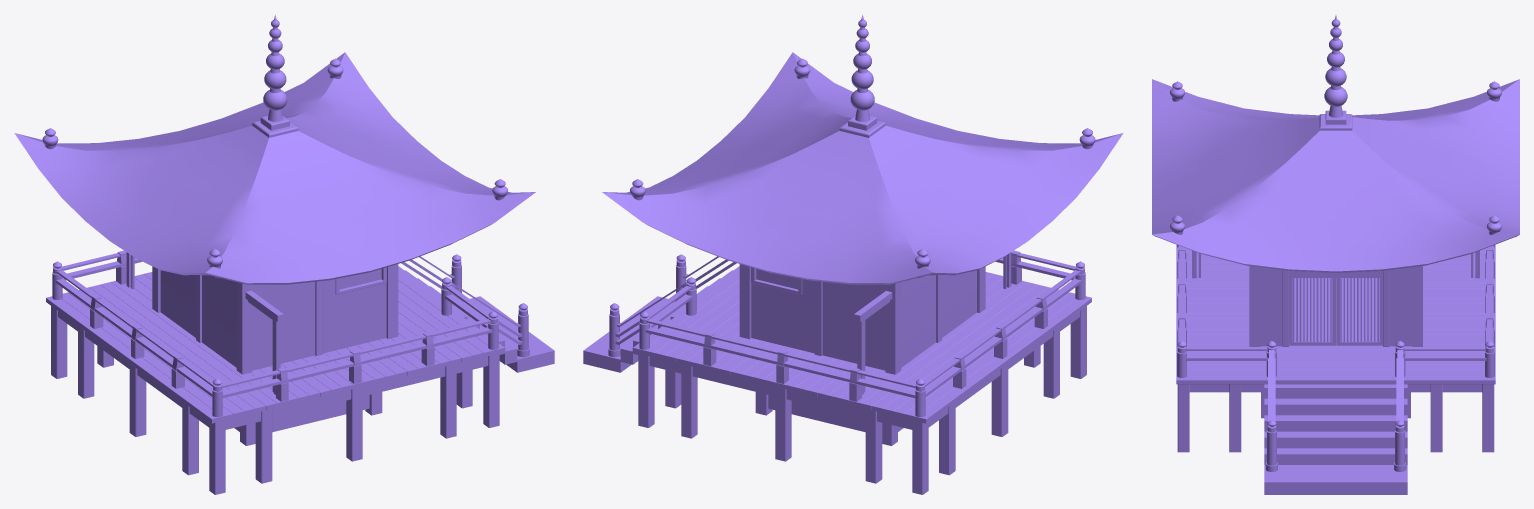
Rendered from temple.fbx.
3 renders of one model, left to right at view 1: azimuth 30°, elevation 25°; view 2: azimuth 150°, elevation 25°; view 3: azimuth 270°, elevation 25°, orthographic. The views are drawn at different scales.
Parts seen in each view (by area): view 1: toit, plancher, polySurface3, pilotis1, rebord_barriere, support_plancher, colonne_barriere, colonne_barriere_deco, escalier, deco_toit, poutre_2, porche (+7 smaller); view 2: toit, plancher, polySurface3, pilotis1, rebord_barriere, support_plancher, colonne_barriere, colonne_barriere_deco, escalier, deco_toit, poutre_3, porche (+7 smaller); view 3: toit, plancher, escalier, rebord_barriere, tapis, polySurface3, pilotis1, porte_gauche, porte_droite, colonne_barriere_deco, deco_toit, support_plancher (+7 smaller).
Part boxes in pixels (x1,y1,x2,y2): toit: (14,52,535,284); plancher: (46,270,505,423); polySurface3: (160,270,386,370); pilotis1: (51,306,499,494); rebord_barriere: (55,253,522,398); support_plancher: (58,311,488,429); colonne_barriere: (90,250,434,401); colonne_barriere_deco: (52,254,529,416); escalier: (398,266,554,372); deco_toit: (263,14,287,121); poutre_2: (236,282,252,374); porche: (126,252,283,394); toit: (602,52,1123,284); plancher: (632,270,1091,423); polySurface3: (751,270,976,370); pilotis1: (638,306,1086,494); rebord_barriere: (615,253,1081,398); support_plancher: (649,311,1079,429); colonne_barriere: (703,250,1047,401); colonne_barriere_deco: (608,254,1085,416); escalier: (583,266,739,372); deco_toit: (850,14,874,121); poutre_3: (885,282,901,374); porche: (854,252,1011,394); toit: (1152,79,1519,272); plancher: (1176,244,1495,384); escalier: (1264,384,1407,494); rebord_barriere: (1178,245,1493,421); tapis: (1292,281,1379,341); polySurface3: (1260,267,1411,346); pilotis1: (1177,384,1494,452); porte_gauche: (1289,271,1335,345); porte_droite: (1336,271,1382,345); colonne_barriere_deco: (1177,245,1494,471); deco_toit: (1324,15,1347,117); support_plancher: (1189,384,1482,392).
Size of the model in its own units: 1082 by 981 by 878.
